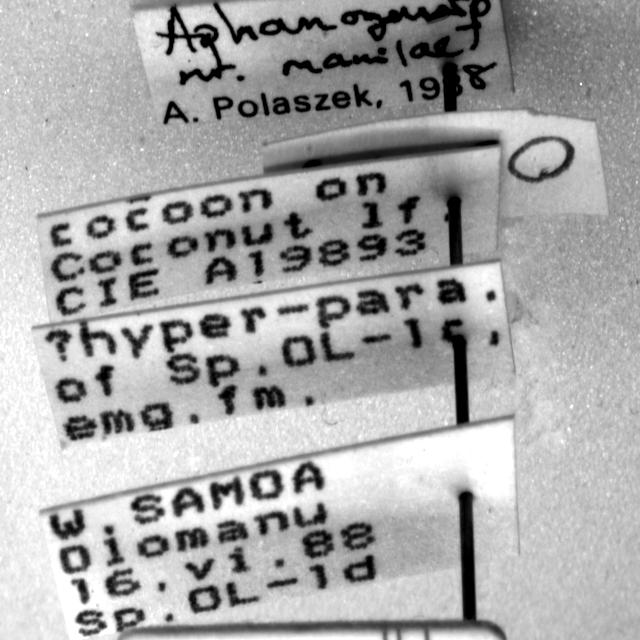mixed_label: (134, 0, 514, 124)
typed_label: (41, 416, 519, 638), (34, 261, 514, 446), (39, 146, 500, 321)
